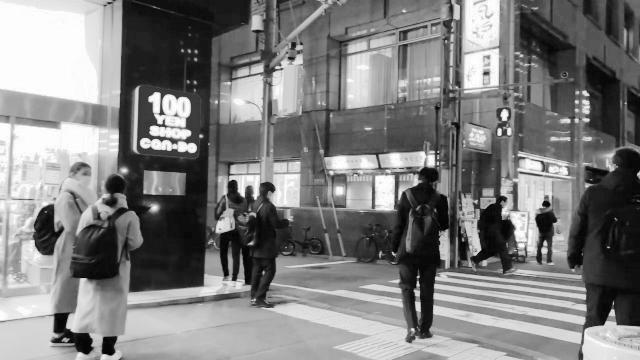berdiri: (562, 144, 640, 360), (79, 178, 145, 360), (388, 166, 454, 344), (36, 154, 92, 347), (238, 168, 292, 312)
